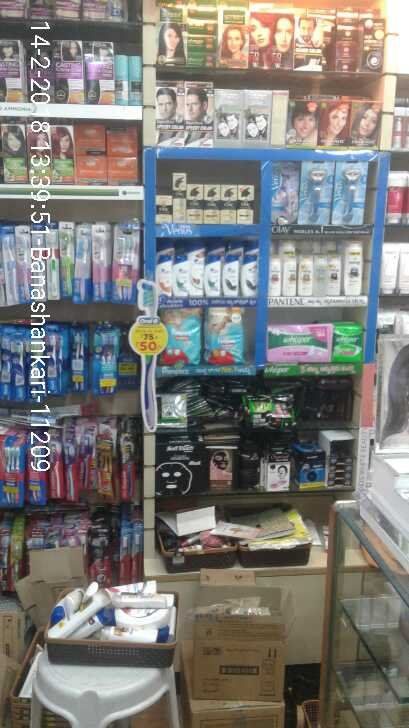venus: (333, 160, 368, 227), (300, 161, 333, 227), (271, 161, 300, 223)
